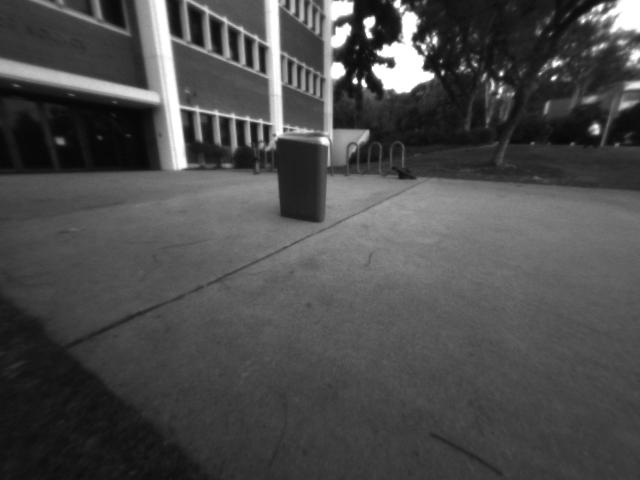trashcan_open: (269, 129, 331, 226)
